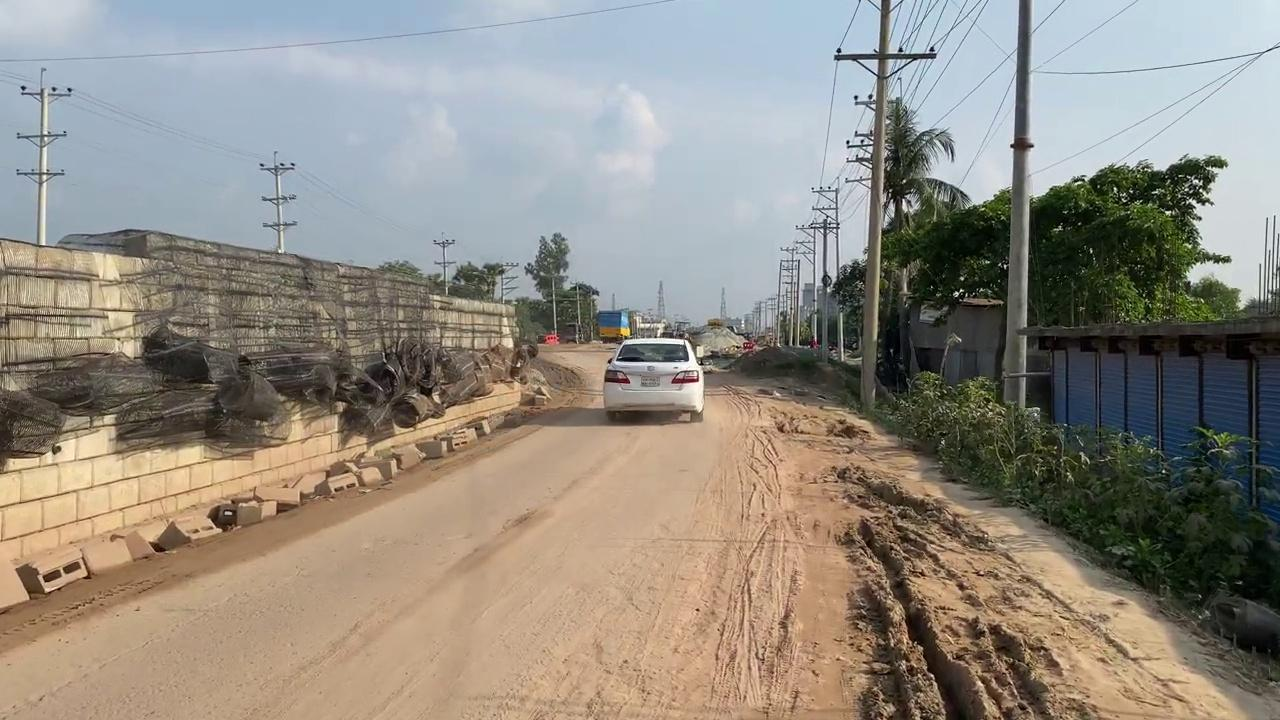Car: (602, 336, 705, 422)
Fence: (1023, 320, 1279, 534)
Garbage: (1, 326, 541, 459)
Muddy road: (721, 347, 1275, 720)
Obstacle: (14, 543, 89, 594)
Pole: (858, 0, 892, 416), (1000, 0, 1033, 412)
Rickshaw: (730, 376, 1275, 718)
Traffic-sign: (523, 231, 570, 337)
Tree: (691, 318, 742, 358), (595, 309, 631, 344), (563, 322, 585, 344)
Upstairs: (0, 228, 530, 604)
